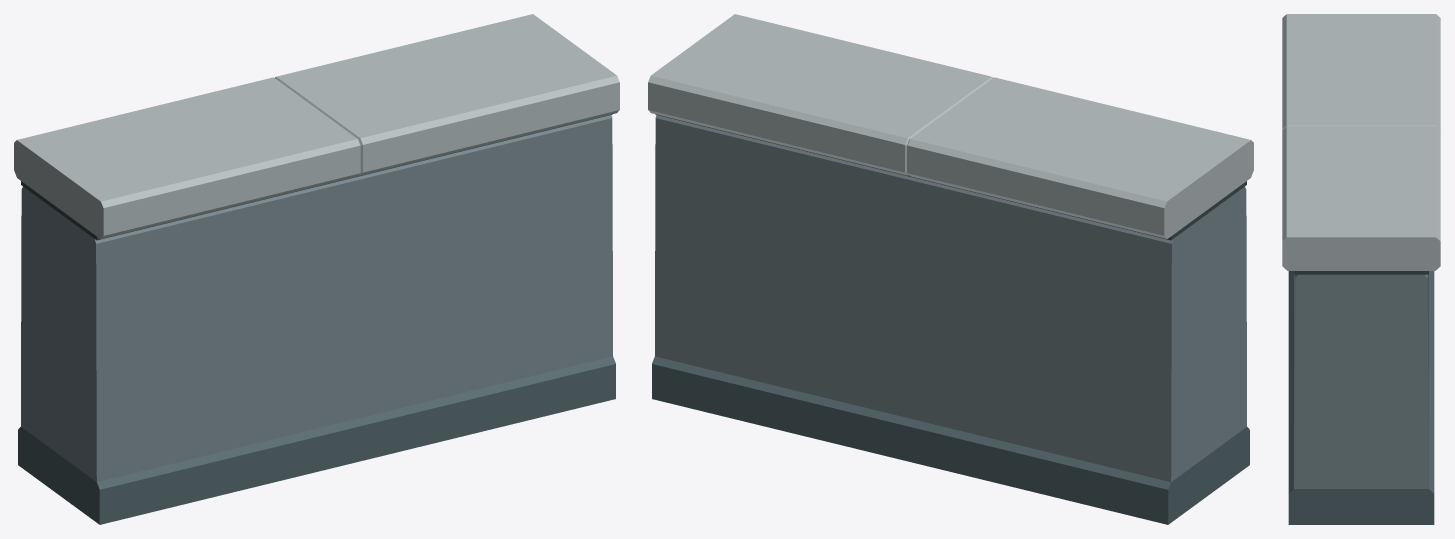
The model's file is city_shore_edges_02.glb.
The picture shows the model from 3 angles, left to right: view 1: azimuth 30°, elevation 25°; view 2: azimuth 150°, elevation 25°; view 3: azimuth 270°, elevation 25°; orthographic projection. The views are drawn at different scales.
Visible parts, largest first — view 1: CityShoreEdges02_Mesh; view 2: CityShoreEdges02_Mesh; view 3: CityShoreEdges02_Mesh.
Part boxes in pixels (x1=…): CityShoreEdges02_Mesh: x1=14, y1=14, x2=619, y2=524; CityShoreEdges02_Mesh: x1=648, y1=14, x2=1253, y2=524; CityShoreEdges02_Mesh: x1=1282, y1=14, x2=1440, y2=524.
Size of the model in its own units: 4 by 2.4 by 1.2.
